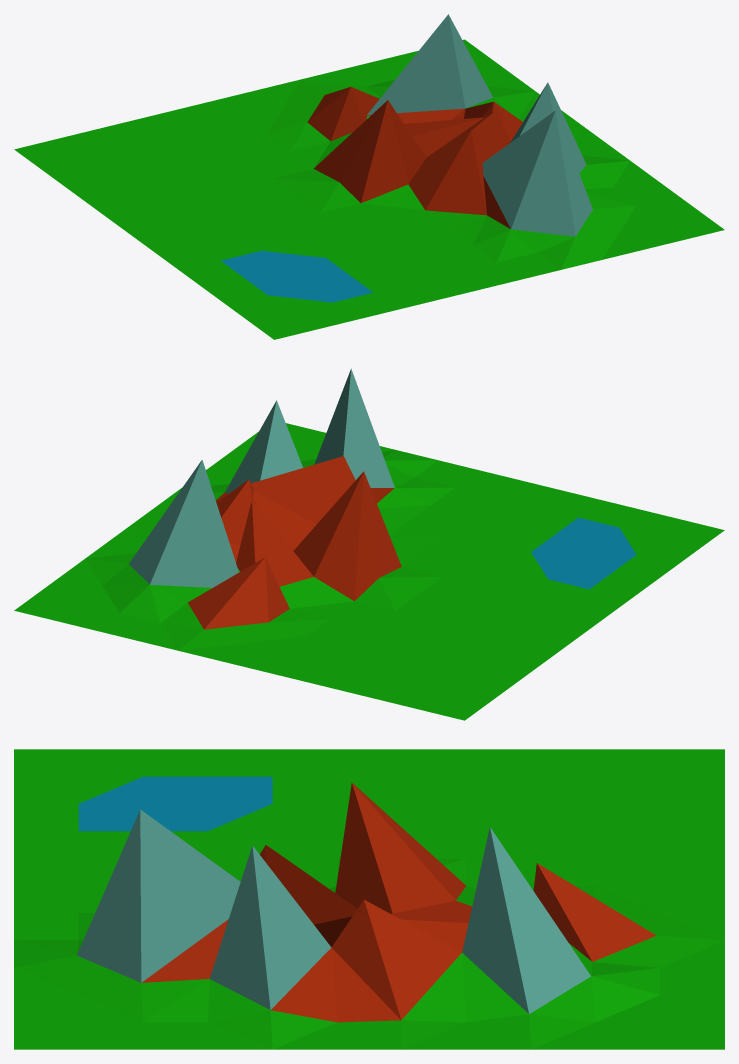
The model's file is Landscape Trial.obj.
The picture shows the model from 3 angles, top to bottom: view 1: azimuth 30°, elevation 25°; view 2: azimuth 150°, elevation 25°; view 3: azimuth 270°, elevation 25°; orthographic projection. The views are drawn at different scales.
Visible parts, largest first — view 1: Plane_Plane.001; view 2: Plane_Plane.001; view 3: Plane_Plane.001.
Boxes of the visible parts, x1,y1,x2,y2 form: Plane_Plane.001: (14, 14, 724, 339); Plane_Plane.001: (14, 368, 724, 720); Plane_Plane.001: (14, 749, 724, 1049).
Size of the model in its own units: 9.38 by 2.3 by 9.38.
